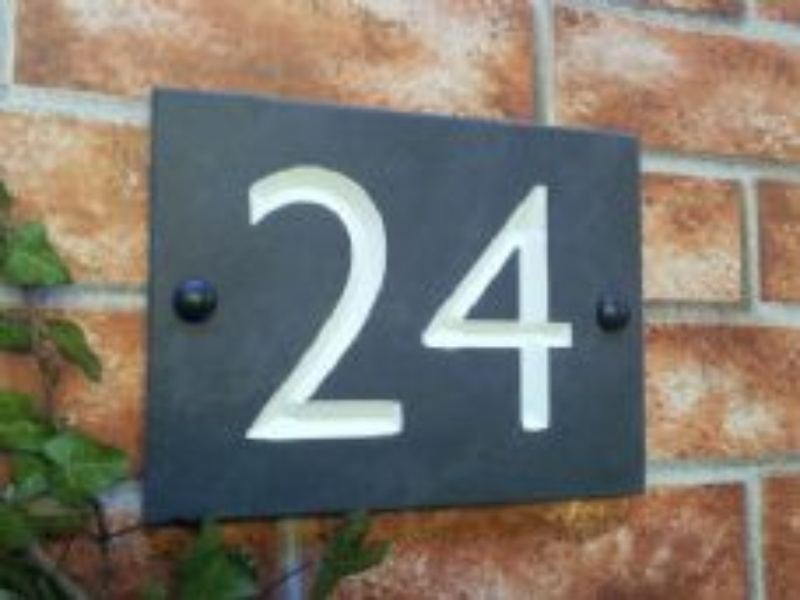text: (257, 162, 272, 439), (273, 162, 288, 439), (289, 162, 304, 439), (305, 162, 320, 439), (321, 162, 336, 439), (337, 162, 352, 439), (353, 162, 368, 439), (369, 162, 384, 439), (385, 162, 400, 439), (401, 162, 416, 439), (417, 162, 432, 439), (433, 162, 448, 439), (449, 162, 464, 439), (465, 162, 480, 439), (481, 162, 496, 439), (497, 162, 512, 439), (513, 162, 528, 439), (529, 162, 544, 439), (545, 162, 560, 439), (561, 162, 576, 439), (246, 162, 256, 439)
